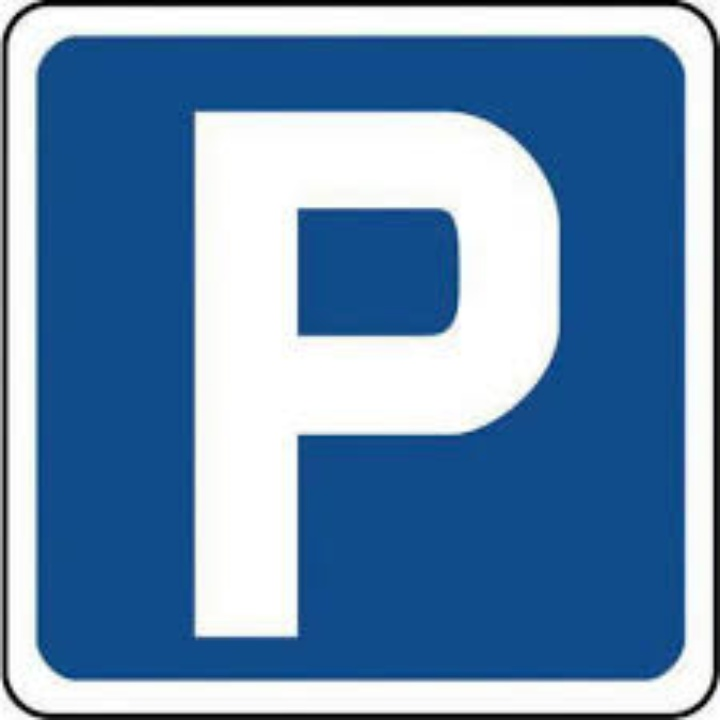parking: (177, 97, 573, 645)
